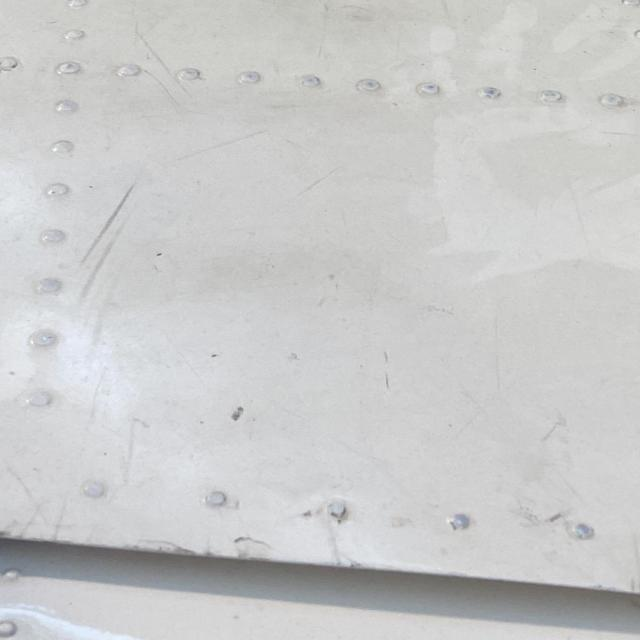Paint-off: (230, 536, 278, 561)
